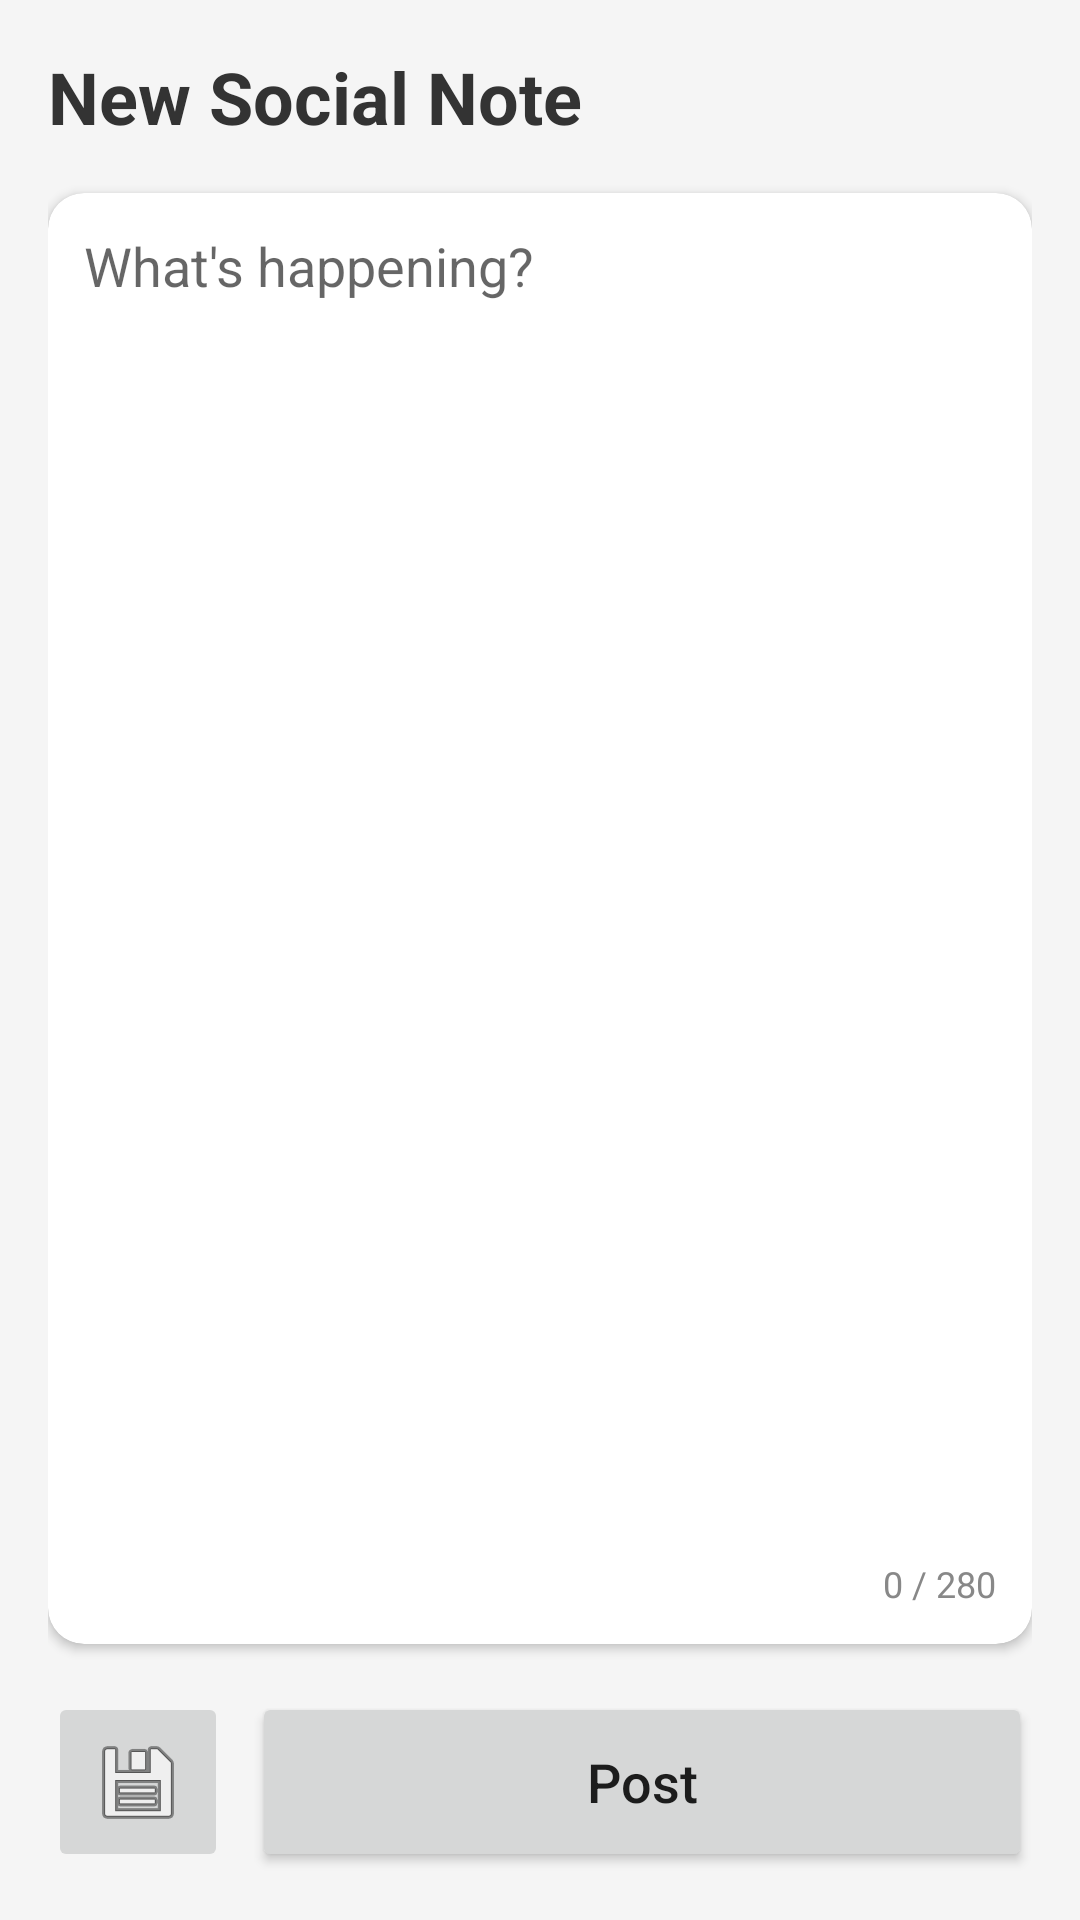

Screen size 1080*1920. Icon name, then its center in pixels as (x,y):
Drafts: (138,1782)
